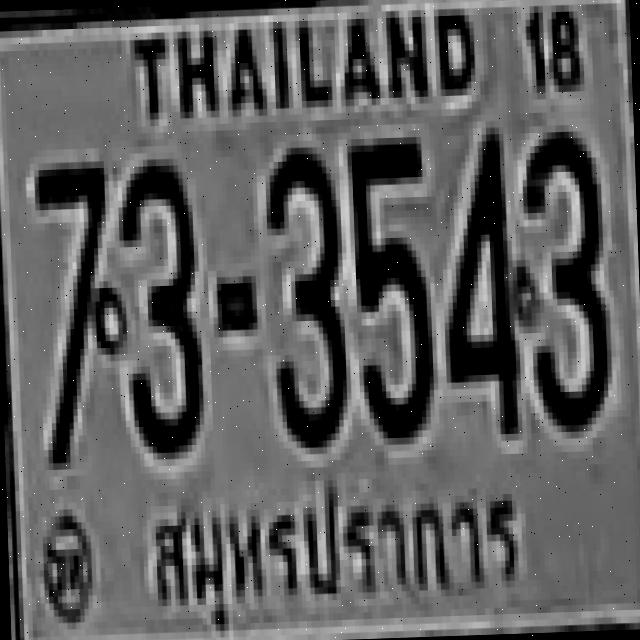3: (516, 124, 609, 426), (111, 158, 200, 454), (264, 143, 344, 445)
4: (438, 124, 518, 432)
5: (346, 130, 431, 438)
7: (31, 158, 116, 460)
SamutPrakan: (142, 468, 531, 618)
